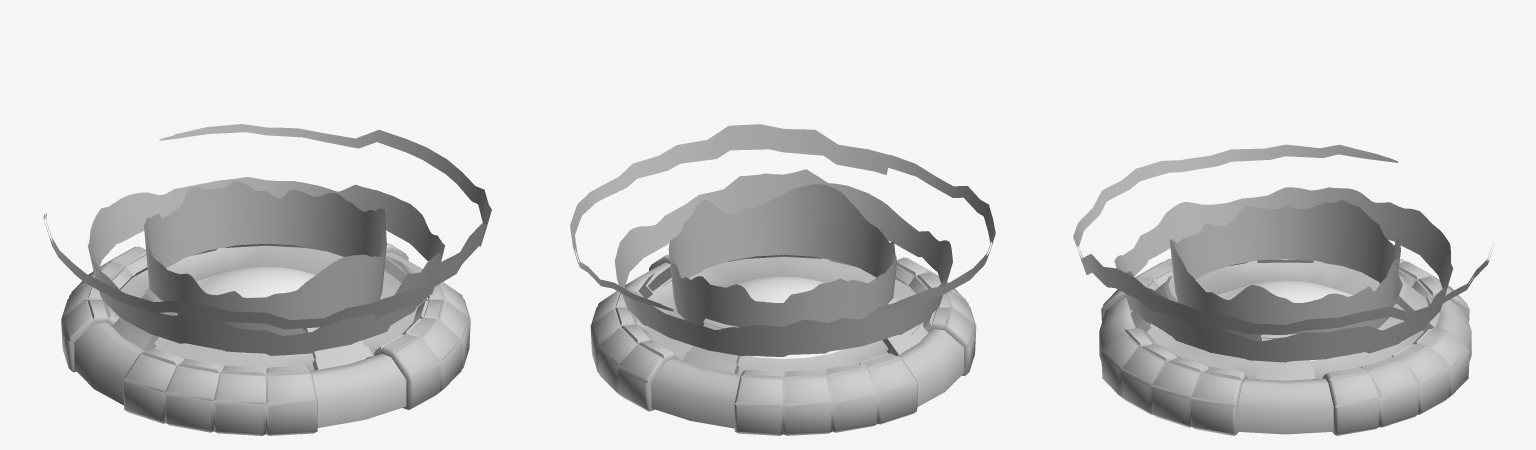
Rendered from pG_warp_01.fbx.
3 renders of one model, left to right at view 1: azimuth 30°, elevation 25°; view 2: azimuth 150°, elevation 25°; view 3: azimuth 270°, elevation 25°, orthographic. The views are drawn at different scales.
Visible parts, largest first — view 1: warp_01b, warp_01a; view 2: warp_01b, warp_01a; view 3: warp_01b, warp_01a.
Part boxes in pixels (x1,y1,x2,y2): warp_01b: [43, 124, 491, 355]; warp_01a: [61, 243, 470, 435]; warp_01b: [570, 124, 995, 356]; warp_01a: [590, 254, 976, 435]; warp_01b: [1073, 144, 1491, 362]; warp_01a: [1099, 258, 1471, 435].
Size of the model in its own units: 213 by 150 by 213.
